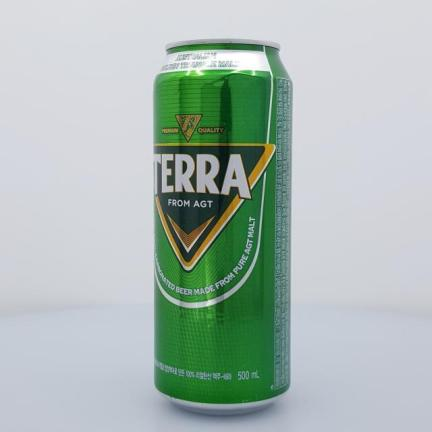can: (154, 40, 292, 413)
